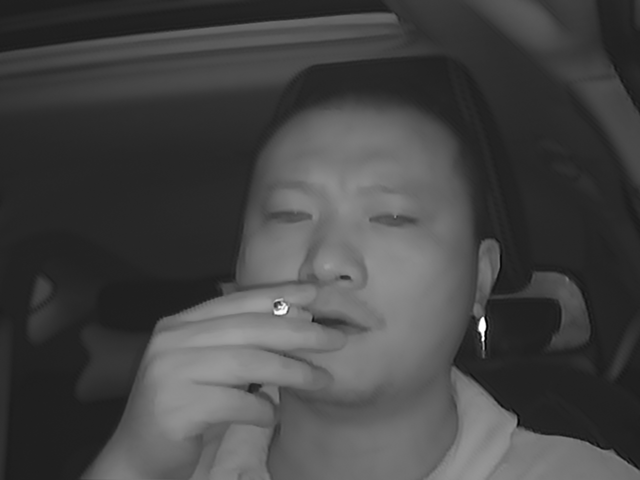hand: (172, 275, 340, 429)
